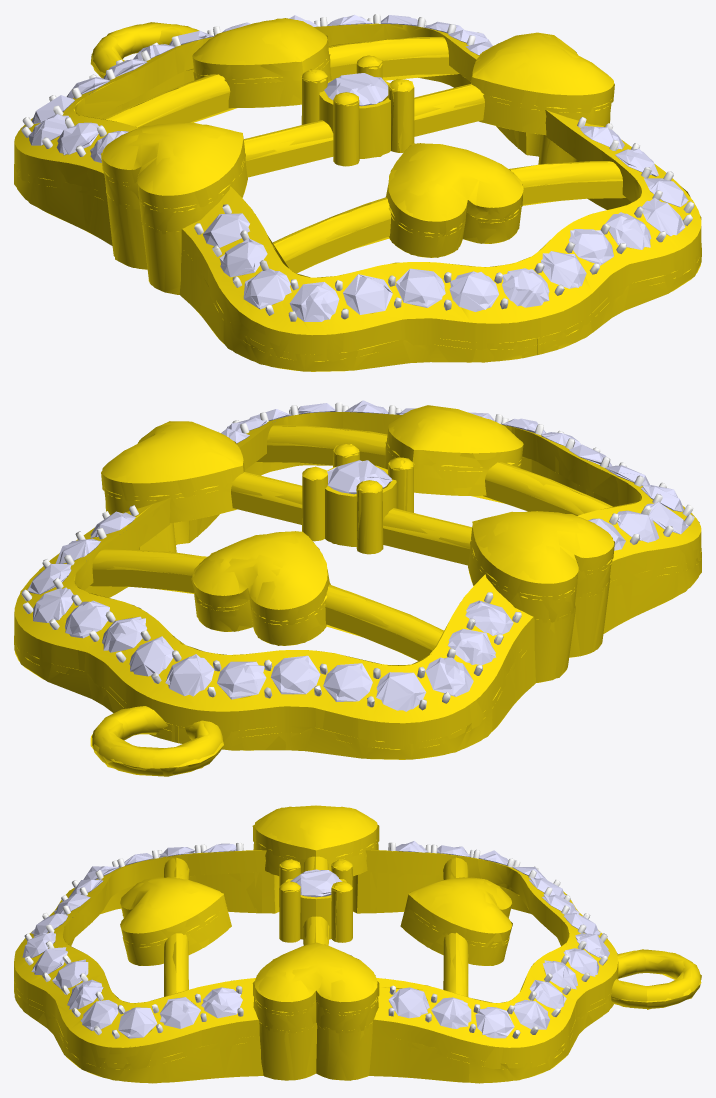
The model's file is DPN-D000638176.glb.
3 renders of one model, top to bottom at view 1: azimuth 30°, elevation 25°; view 2: azimuth 150°, elevation 25°; view 3: azimuth 270°, elevation 25°, orthographic. The views are drawn at different scales.
Visible parts, largest first — view 1: highPolyMesh, lowPolyMesh; view 2: highPolyMesh, lowPolyMesh; view 3: highPolyMesh, lowPolyMesh.
Boxes of the visible parts, box(x1,y1,x2,y2) form: highPolyMesh: box(14, 14, 701, 371); lowPolyMesh: box(14, 14, 701, 370); highPolyMesh: box(14, 402, 701, 775); lowPolyMesh: box(14, 400, 701, 776); highPolyMesh: box(14, 806, 700, 1082); lowPolyMesh: box(14, 805, 701, 1083).
Size of the model in its own units: 0.0145 by 0.00428 by 0.0224.
